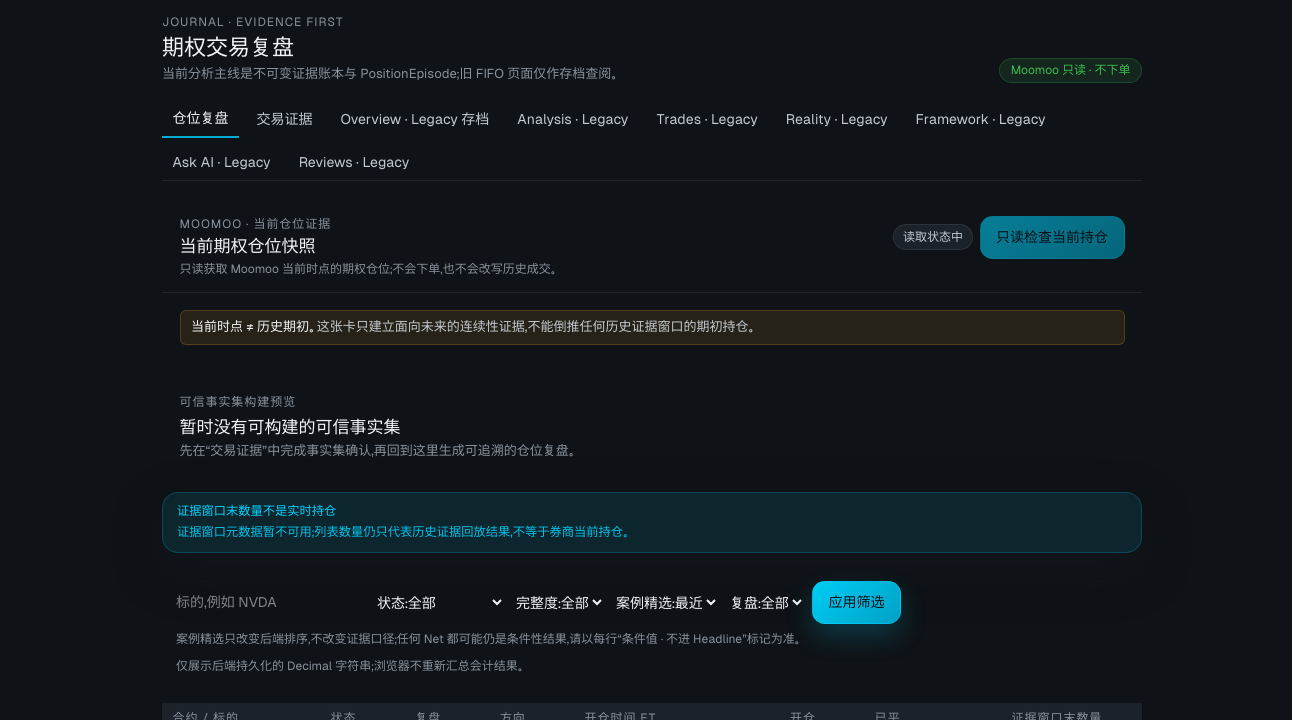
Test case: JournalPage active journal routing and legacy isolation › writes Position filters and page reset into the URL
Type "nvda" into the field named "筛选标的".
click(271, 603); type("nvda")  # box x1=176 y1=581 x2=366 y2=624
Select "证据窗口内已归零" in the dropdown named "筛选回合状态" at (439, 603), box x1=373 y1=581 x2=505 y2=624
Select "Partial" in the dropdown named "筛选证据完整度" at (558, 603), box x1=512 y1=581 x2=605 y2=624
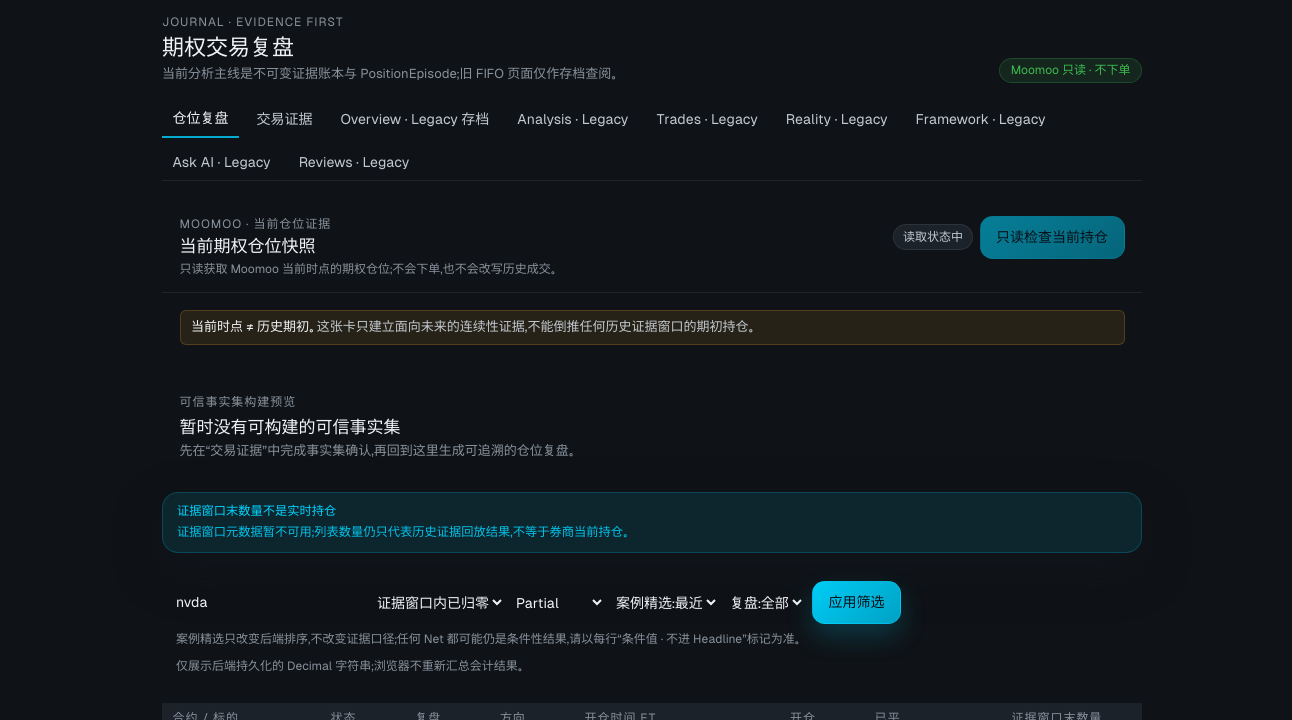
Select "费用最高" in the dropdown named "案例精选" at (666, 603), box x1=612 y1=581 x2=719 y2=624
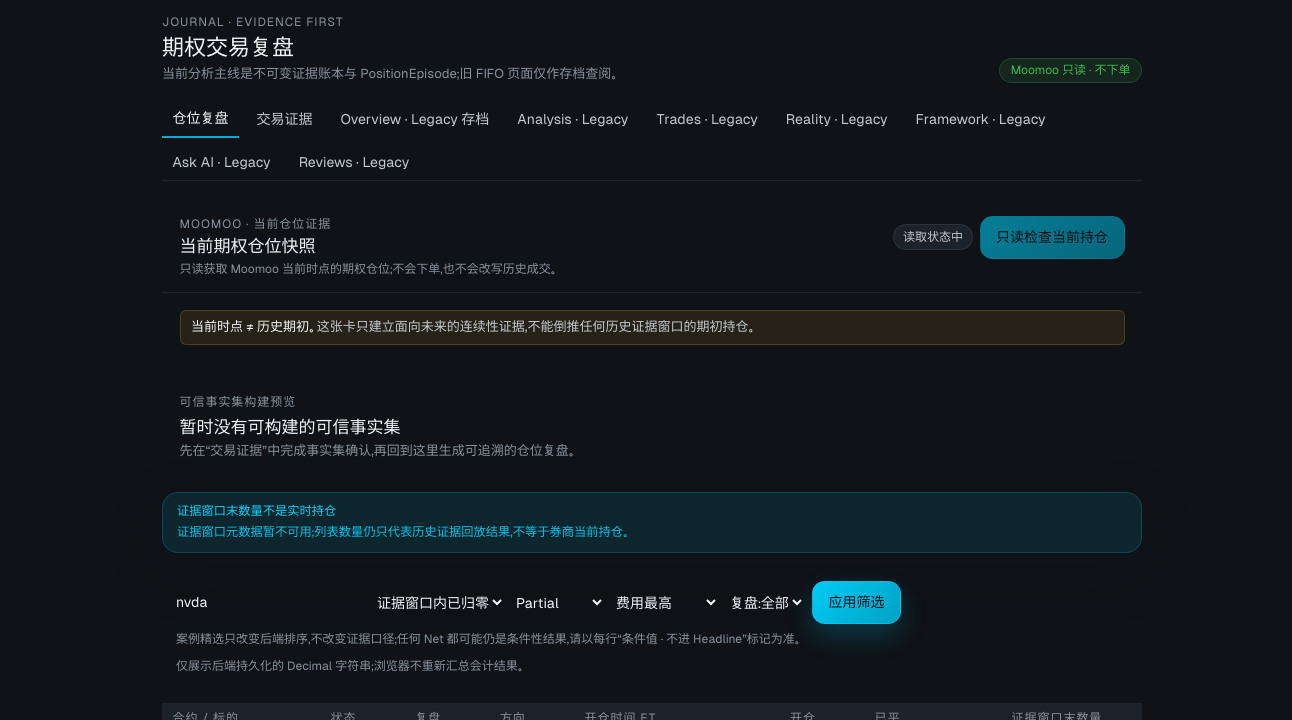
Click the button "应用筛选".
click(856, 603)  # box x1=812 y1=581 x2=901 y2=624
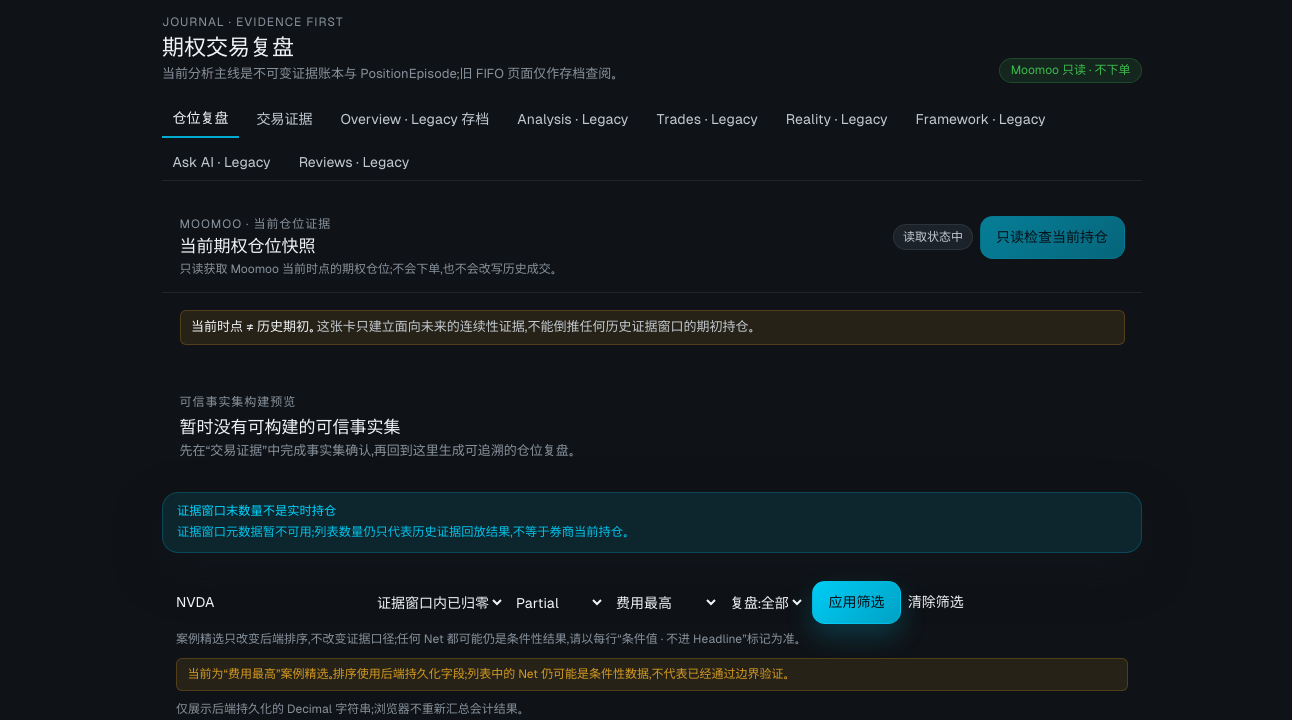
Now the text "当前为“费用最高”案例精选。排序使用后端持久化字段；列表中的 Net 仍可能是条件性数据，不代表已经通过边界验证。" is shown, box x1=176 y1=658 x2=1128 y2=691
Select "证据最不完整" in the dropdown named "案例精选" at (666, 603), box x1=612 y1=581 x2=719 y2=624
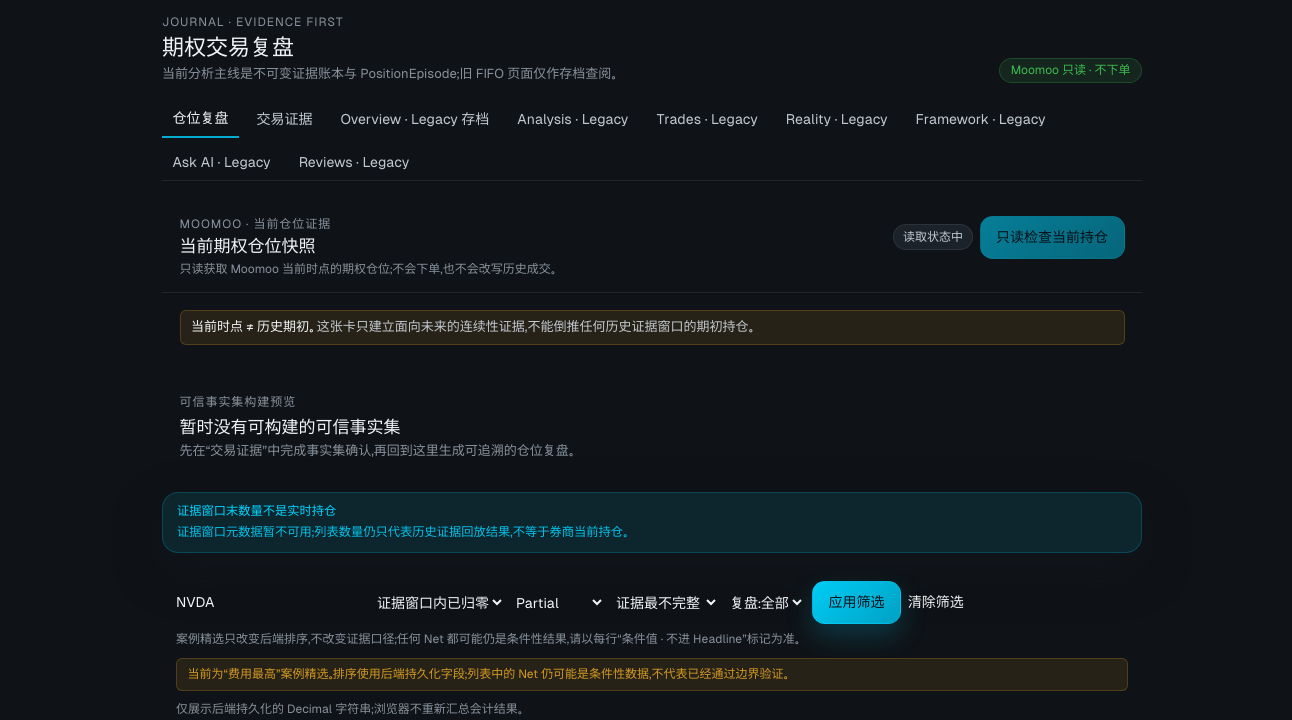
Click the button "应用筛选".
click(856, 603)  # box x1=812 y1=581 x2=901 y2=624
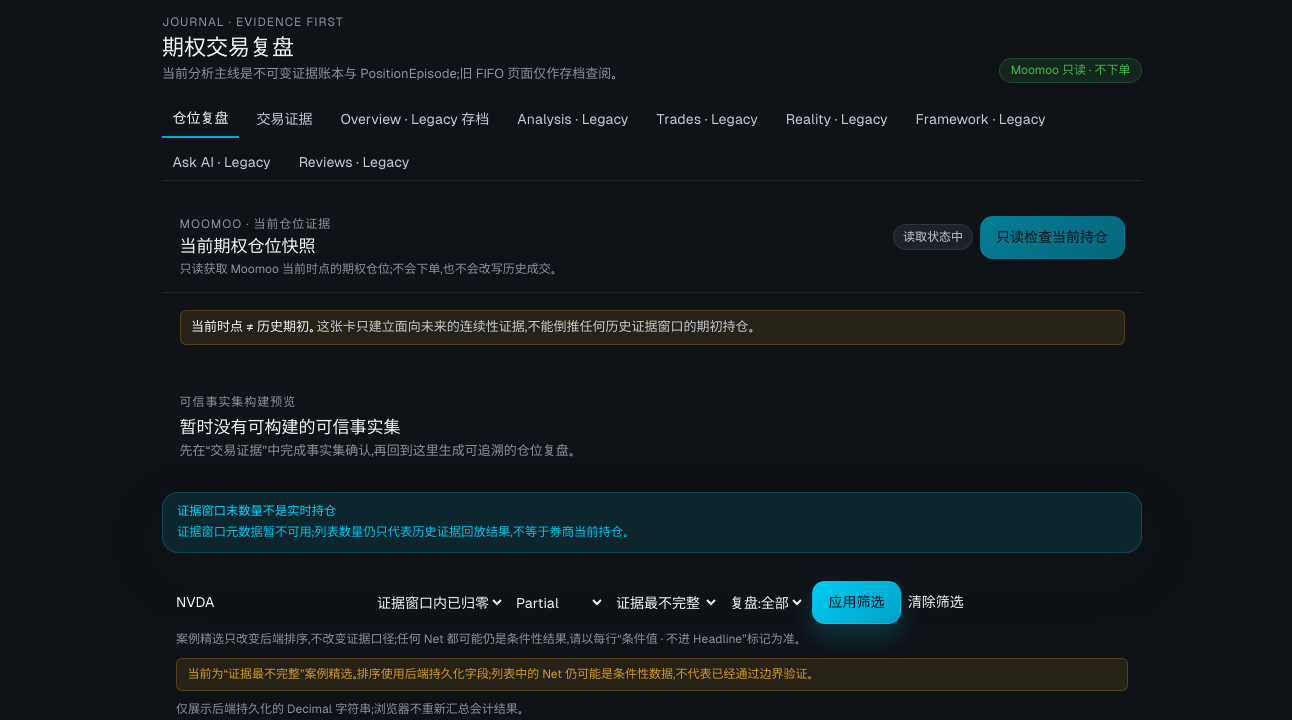
Now the text "当前为“证据最不完整”案例精选。排序使用后端持久化字段；列表中的 Net 仍可能是条件性数据，不代表已经通过边界验证。" is shown, box x1=176 y1=658 x2=1128 y2=691
Click the button "清除筛选".
click(936, 603)  # box x1=908 y1=581 x2=964 y2=624
(page scrolled)
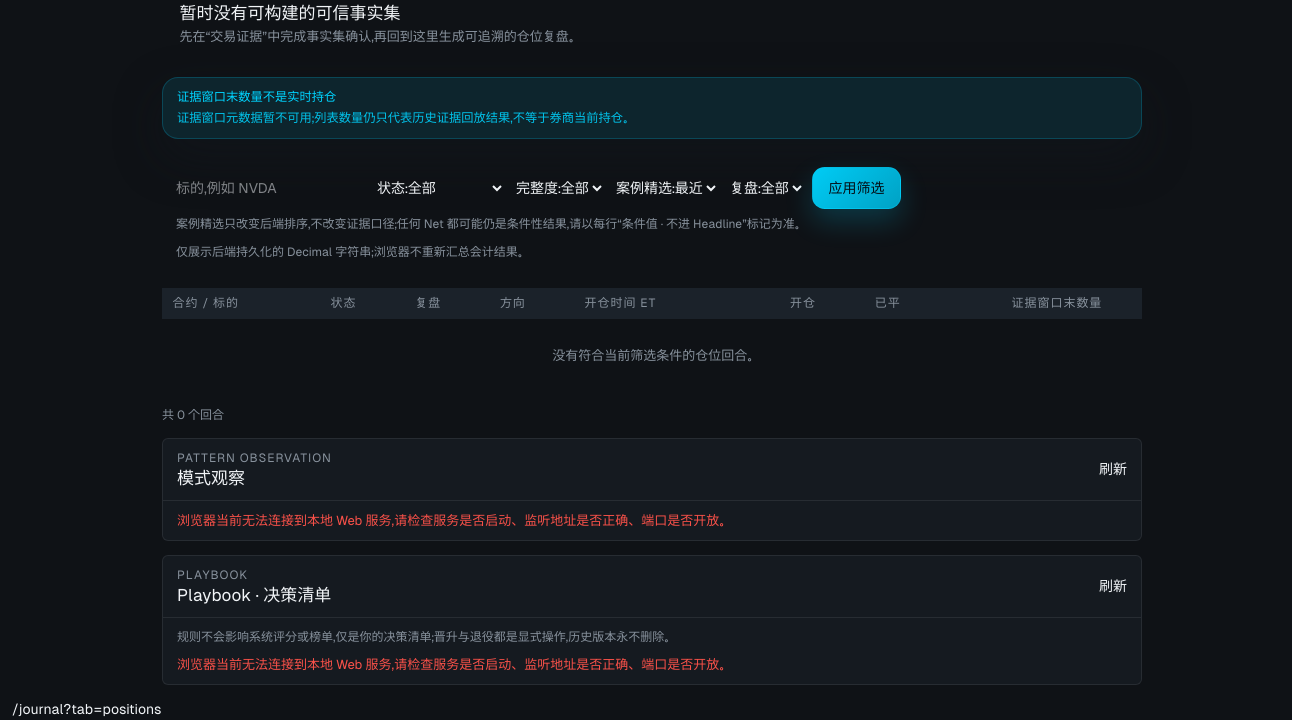
Now the text with test id "location" reads "/journal?tab=positions", box x1=12 y1=702 x2=162 y2=718
